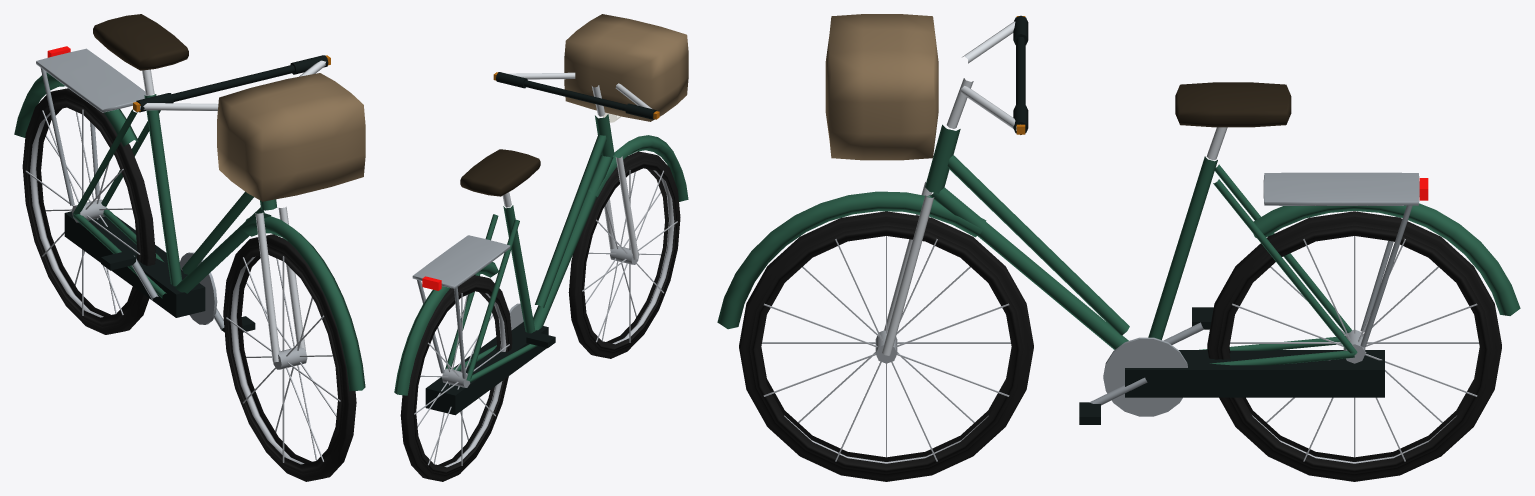
Rendered from car_bicycle.glb.
3 views of the same model, side by side, from view 1: azimuth 30°, elevation 25°; view 2: azimuth 150°, elevation 25°; view 3: azimuth 270°, elevation 25° (orthographic). The views are drawn at different scales.
Visible parts, largest first — view 1: body, wheel_FL_mesh, wheel_RL_mesh; view 2: body, wheel_FL_mesh, wheel_RL_mesh; view 3: body, wheel_FL_mesh, wheel_RL_mesh.
Boxes of the visible parts, x1,y1,x2,y2 form: body: (14,14,365,391); wheel_FL_mesh: (223,234,356,481); wheel_RL_mesh: (22,88,155,334); body: (394,14,688,415); wheel_FL_mesh: (568,151,680,358); wheel_RL_mesh: (400,275,512,481); body: (717,14,1520,424); wheel_FL_mesh: (739,211,1033,481); wheel_RL_mesh: (1207,211,1501,481).
Bounding box in the file's own units: 0.604 × 1.12 × 1.85.
